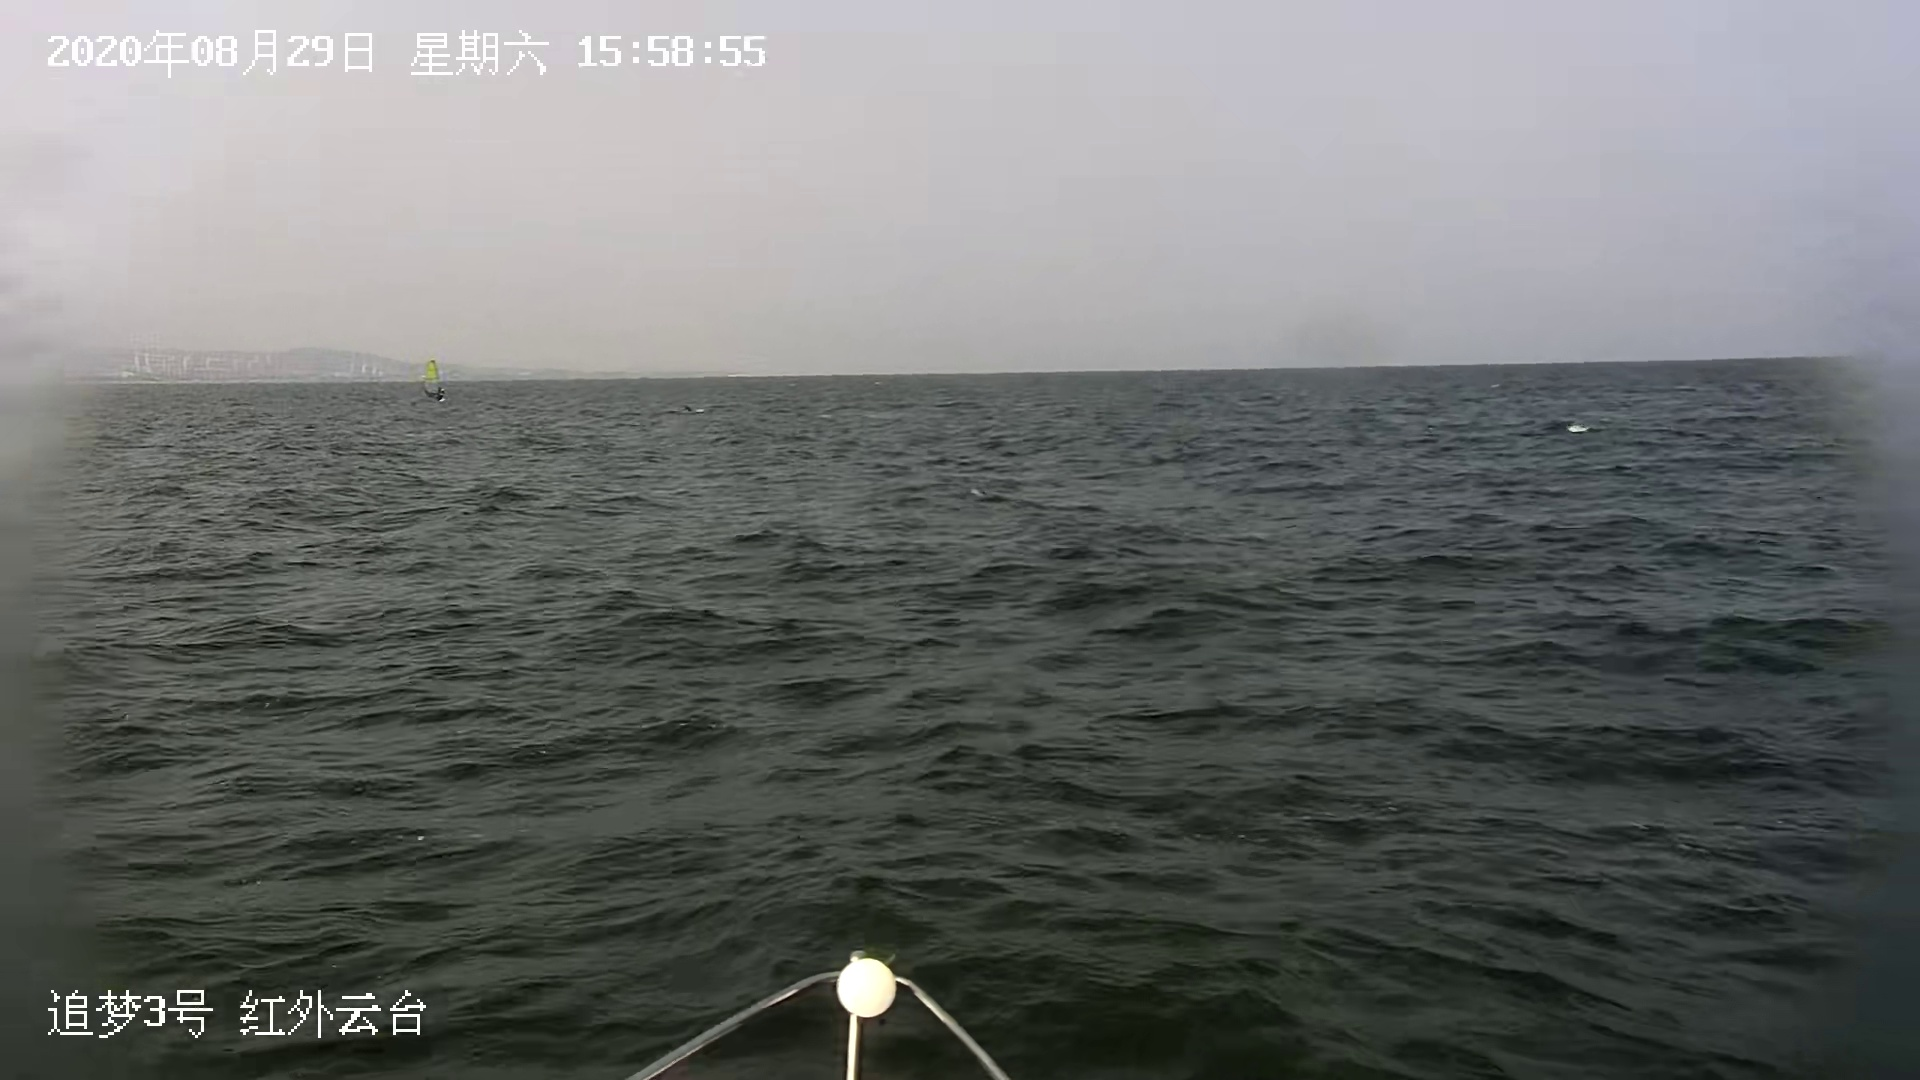barrier: (425, 359, 447, 404)
coast: (36, 338, 684, 402)
